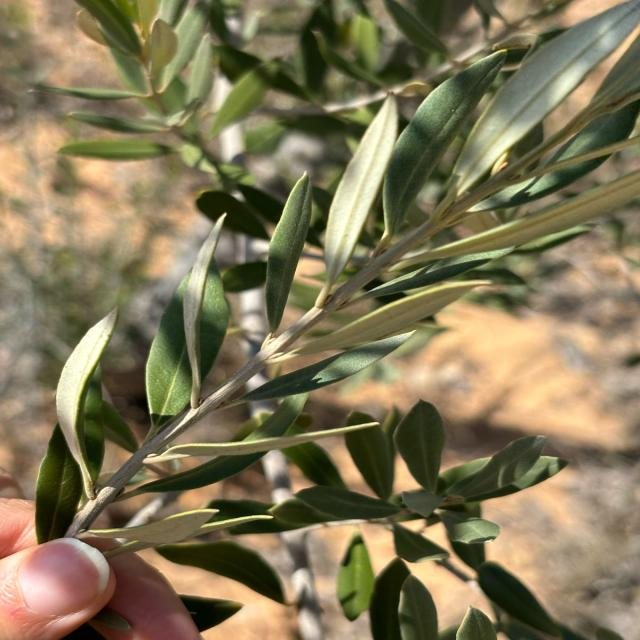Healthy: (434, 0, 639, 212), (381, 50, 508, 240), (325, 95, 397, 287), (56, 308, 117, 500), (266, 173, 312, 333), (393, 400, 445, 494)
